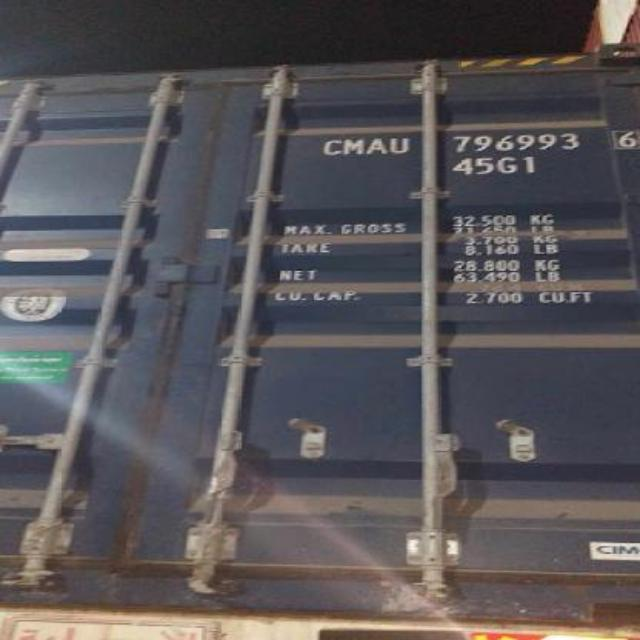3: (560, 130, 580, 154)
6: (610, 130, 638, 152), (494, 133, 516, 151)
7: (448, 136, 472, 154)
9: (514, 132, 538, 152), (538, 130, 558, 154), (472, 135, 494, 153)
A: (367, 138, 388, 158)
C: (320, 139, 344, 157)
M: (344, 138, 364, 158)
U: (388, 134, 414, 158)
